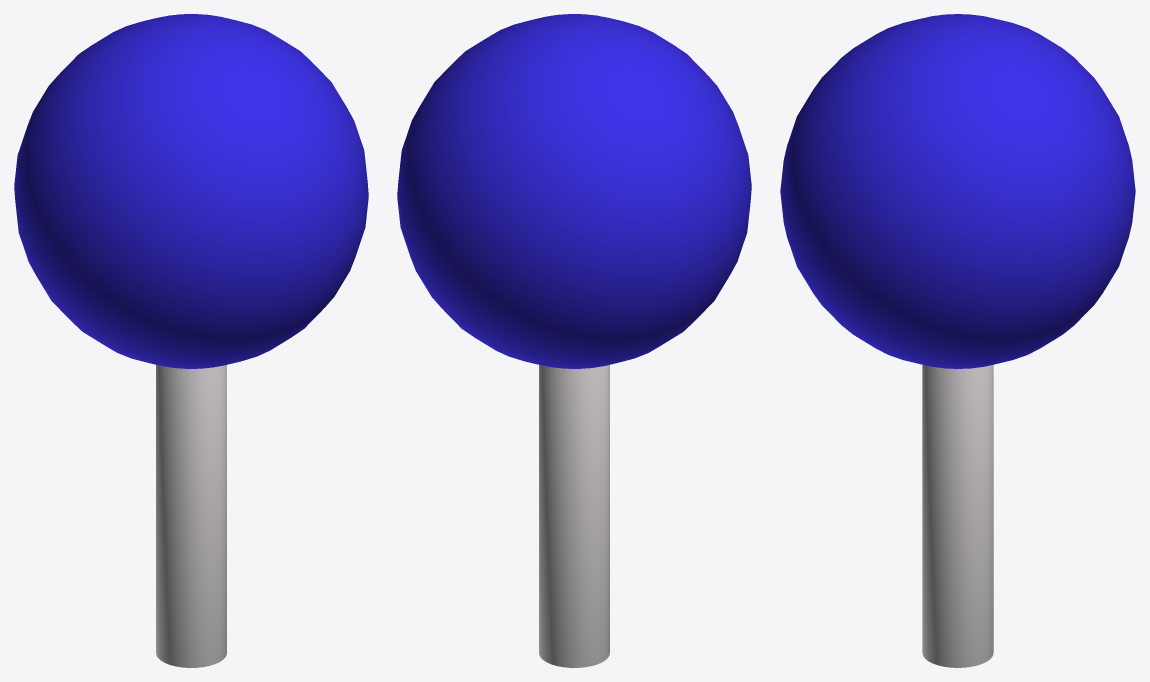
Rendered from mapPinBlue.glb.
The picture shows the model from 3 angles, left to right: view 1: azimuth 30°, elevation 25°; view 2: azimuth 150°, elevation 25°; view 3: azimuth 270°, elevation 25°; orthographic projection.
Parts seen in each view (by area): view 1: Sphere, Cylinder; view 2: Sphere, Cylinder; view 3: Sphere, Cylinder.
Part boxes in pixels (left/top/right/bottom): Sphere: left=14, top=14, right=368, bottom=368; Cylinder: left=156, top=365, right=226, bottom=667; Sphere: left=397, top=14, right=751, bottom=368; Cylinder: left=539, top=365, right=609, bottom=667; Sphere: left=780, top=14, right=1135, bottom=368; Cylinder: left=922, top=364, right=993, bottom=667.
Bounding box in the file's own units: 2 × 3.87 × 2.
